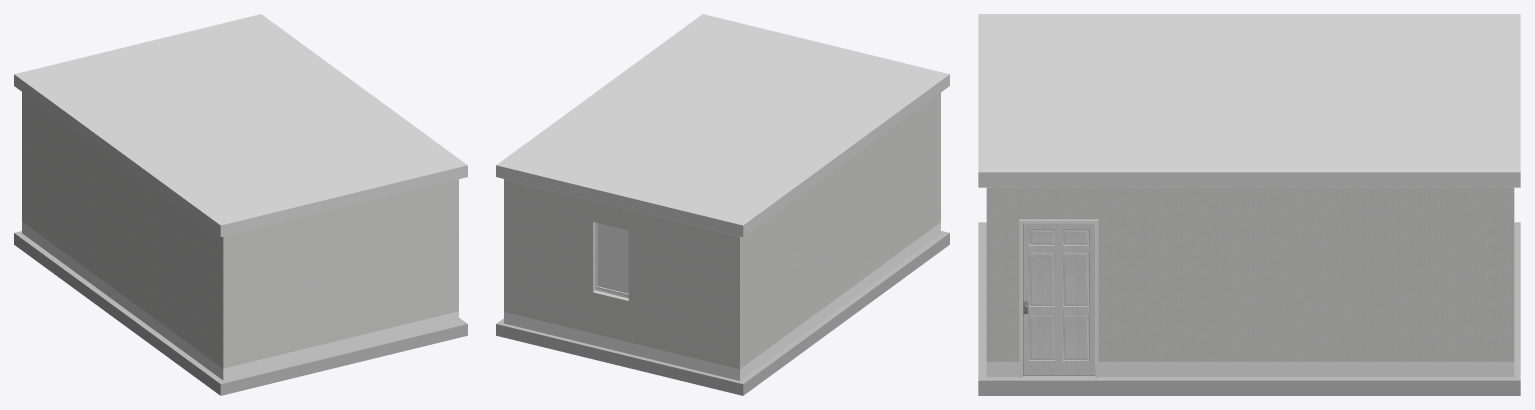
The model's file is FloorPlan207_physics.fbx.
3 views of the same model, side by side, from view 1: azimuth 30°, elevation 25°; view 2: azimuth 150°, elevation 25°; view 3: azimuth 270°, elevation 25° (orthographic). The views are drawn at different scales.
Parts seen in each view (by area): view 1: FP207:StandardWallSize, FP207:Ceiling, FP207:Floor; view 2: FP207:StandardWallSize, FP207:Ceiling, FP207:Floor, FP207:polySurface2, FP207:polySurface1; view 3: FP207:Ceiling, FP207:StandardWallSize, FP207:Floor, FP207:StandardDoor1, FP207:StandardDoorFrame1.
Part boxes in pixels (x1,y1,x2,y2): FP207:StandardWallSize: (22, 92, 458, 380); FP207:Ceiling: (14, 14, 467, 236); FP207:Floor: (14, 231, 467, 395); FP207:StandardWallSize: (504, 93, 940, 380); FP207:Ceiling: (496, 14, 949, 236); FP207:Floor: (496, 231, 949, 395); FP207:polySurface2: (597, 223, 628, 293); FP207:polySurface1: (595, 222, 628, 298); FP207:Ceiling: (978, 14, 1520, 187); FP207:StandardWallSize: (986, 187, 1514, 376); FP207:Floor: (978, 222, 1520, 395); FP207:StandardDoor1: (1023, 223, 1095, 375); FP207:StandardDoorFrame1: (1019, 219, 1098, 377).
Bounding box in the file's own units: 440 × 290 × 638.
